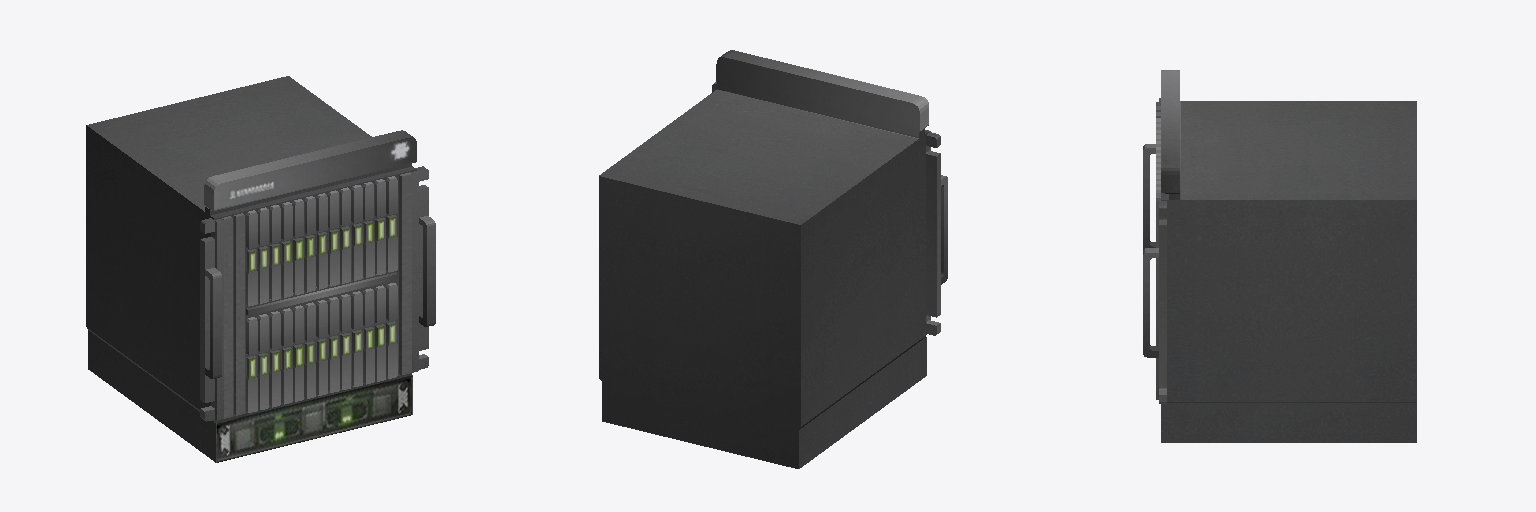
3 renders of one model, left to right at view 1: azimuth 30°, elevation 25°; view 2: azimuth 150°, elevation 25°; view 3: azimuth 270°, elevation 25°, orthographic.
Visible parts, largest first — view 1: Object001; view 2: Object001; view 3: Object001.
Boxes of the visible parts, x1,y1,x2,y2 form: Object001: [86, 76, 435, 462]; Object001: [599, 50, 947, 468]; Object001: [1143, 70, 1416, 442].
Size of the model in its own units: 129 by 154 by 137.
1 materials, 1 textured.